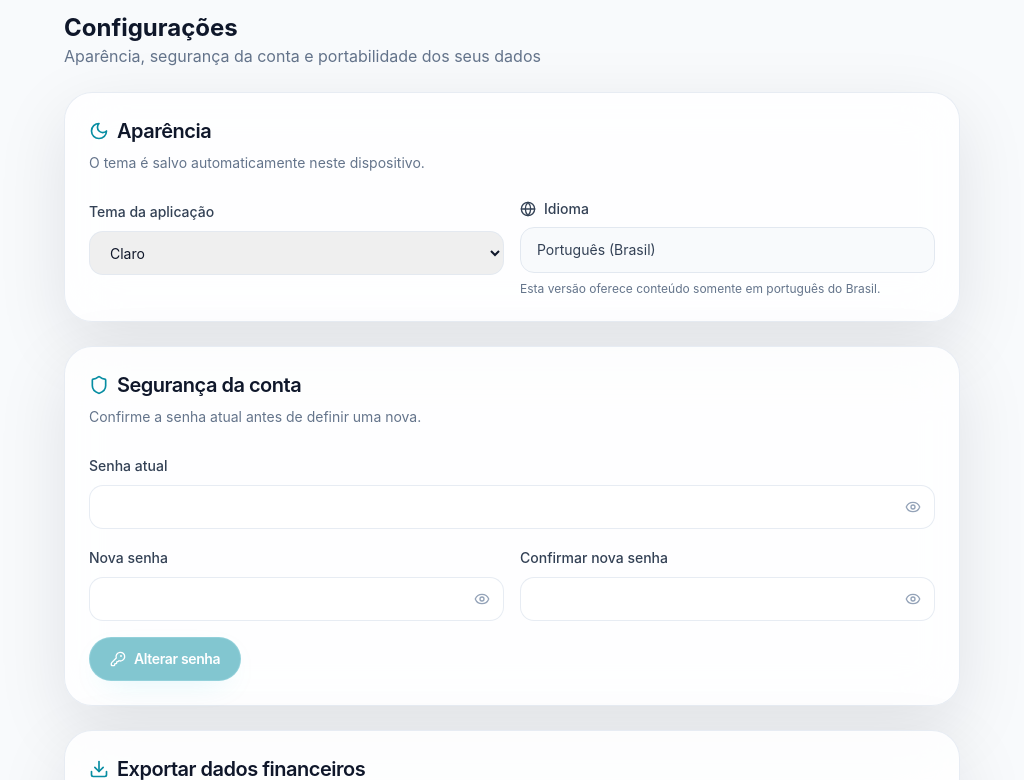
it: SettingsPage › changes the authenticated user password
Type "current-password" into the password field labelled "Senha atual".
click(512, 507); type("current-password")  # box [89,485,935,529]
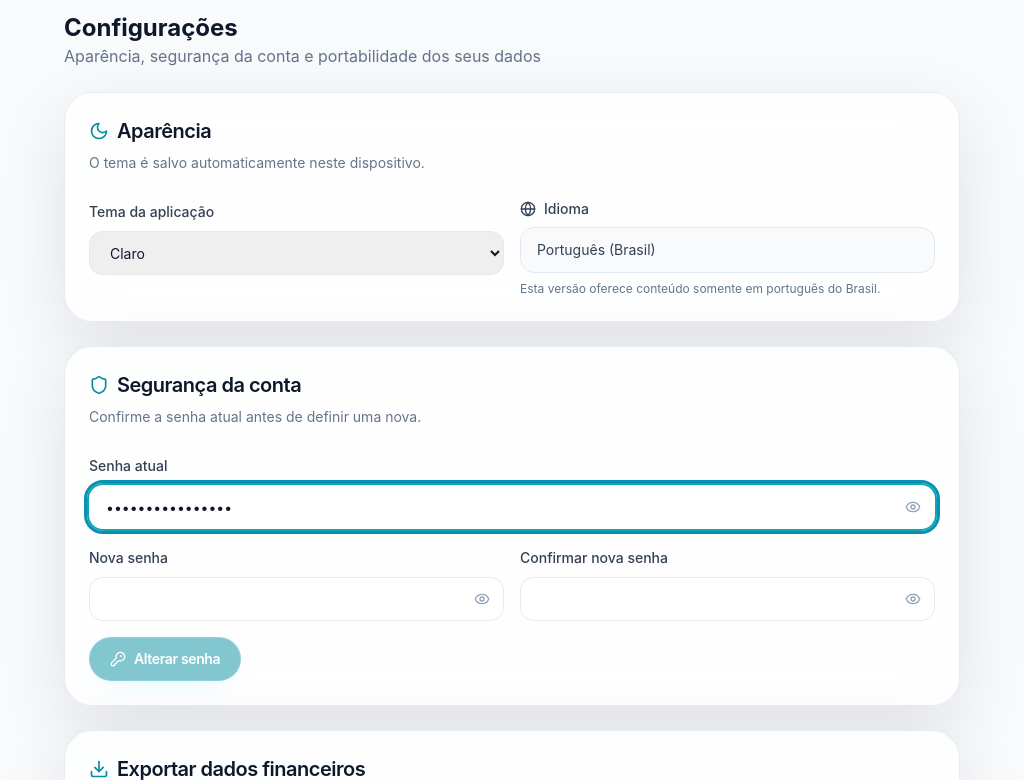
Type "new-password" into the password field labelled "Nova senha".
click(296, 599); type("new-password")  # box [89,577,504,621]
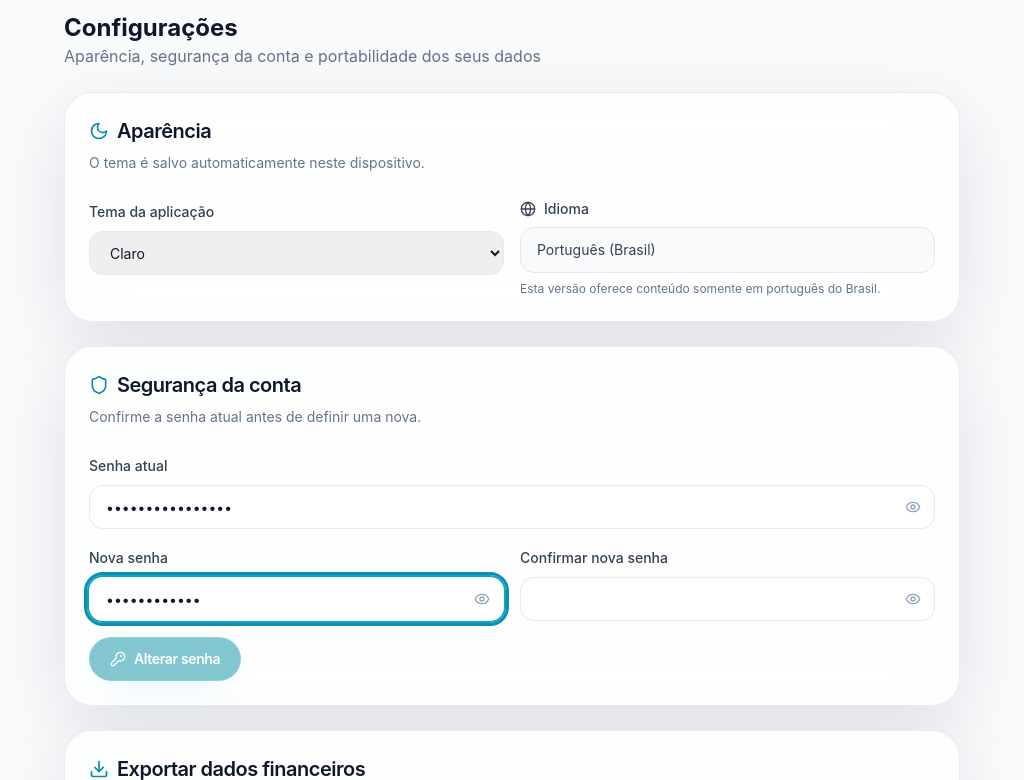
Type "new-password" into the password field labelled "Confirmar nova senha".
click(728, 599); type("new-password")  # box [520,577,935,621]
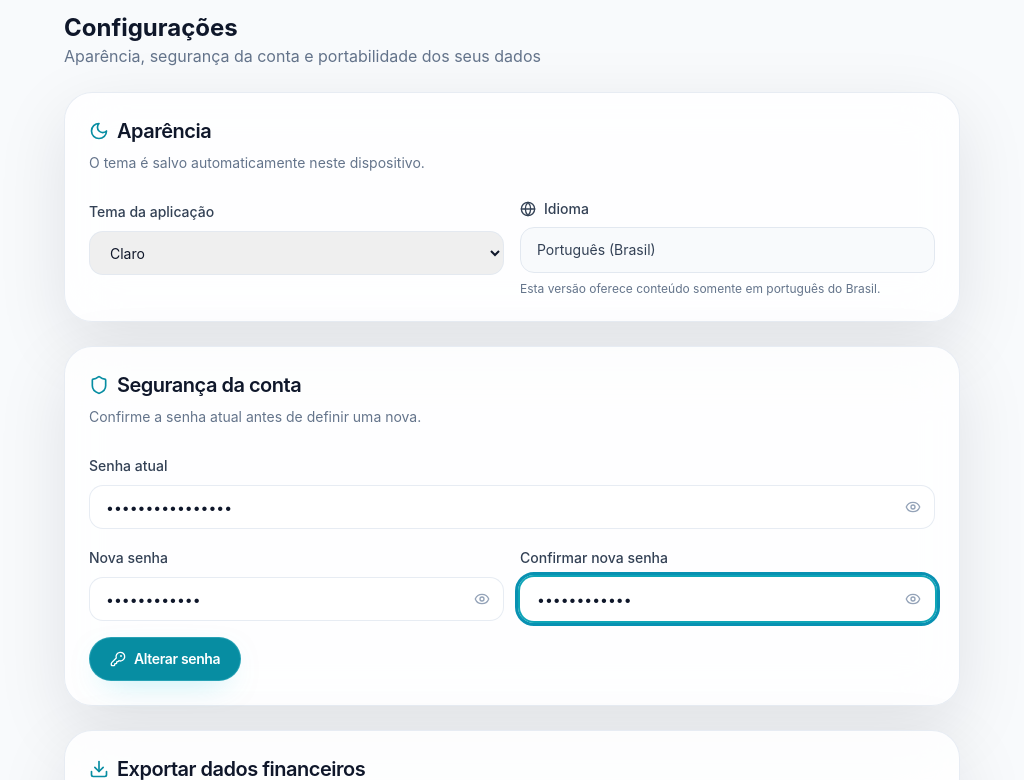
Click the button "Alterar senha".
click(165, 659)  # box [89,637,241,681]
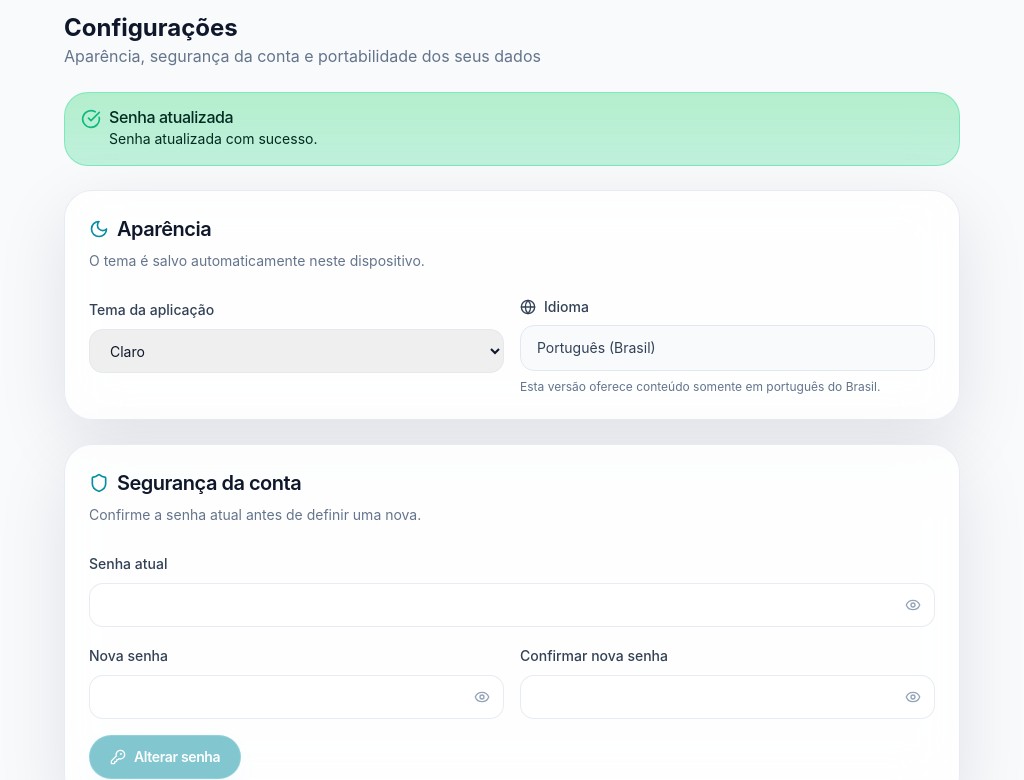
Check: the text "Senha atualizada com sucesso." is shown, box [109,130,318,147]
